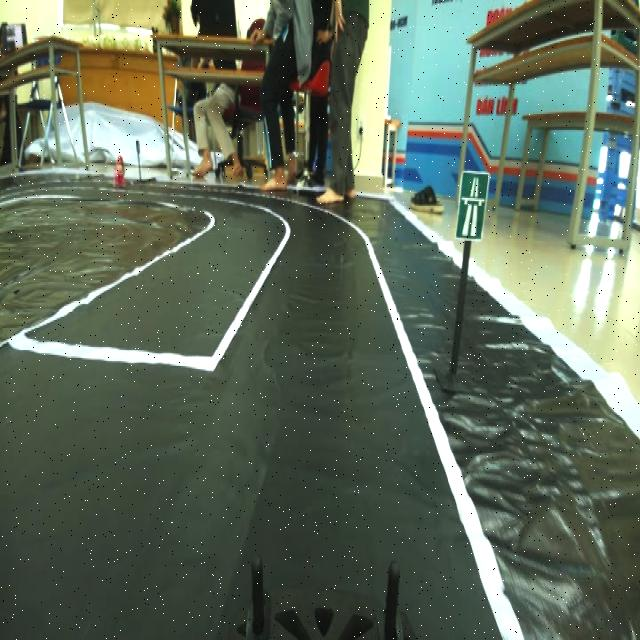highway_entry: (452, 158, 494, 252)
